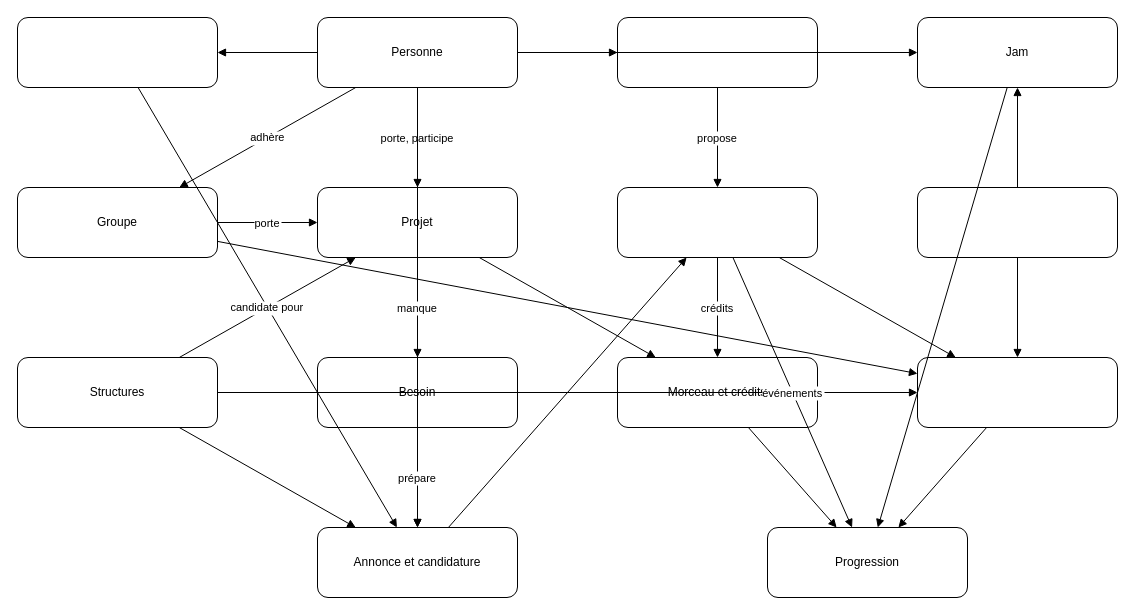
Image size: 1135x615. Some labels were removed from this diagram. Each missing label, with the box of its shape:
Accompagnement: (16, 16, 218, 88)
Collaboration confirmée: (616, 186, 818, 258)
Concert reconnu: (916, 356, 1118, 428)
Conversation: (616, 16, 818, 88)
Lieu: (916, 186, 1118, 258)
